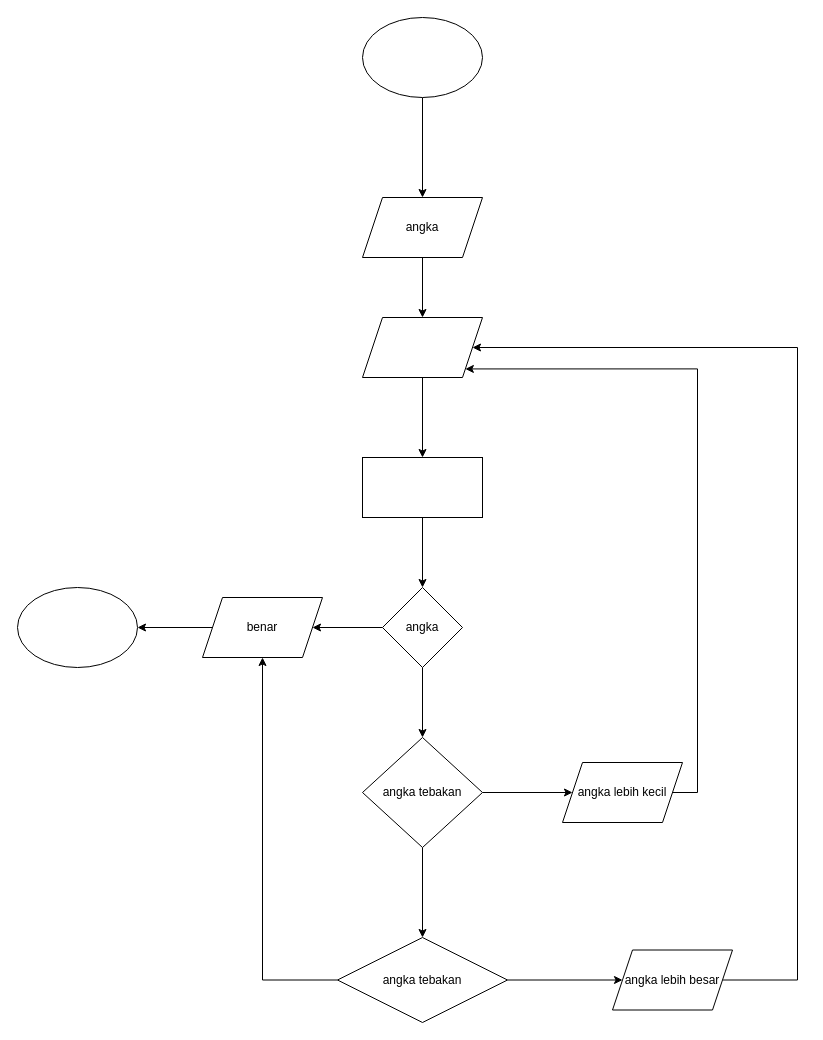
This 823x1040 diagram has some shape labels left out. Each missing label, with the centre of its shape:
Menebak angka: point (422, 487)
selesai: point (77, 627)
Start: point (422, 57)
Tebak angka: point (422, 347)
